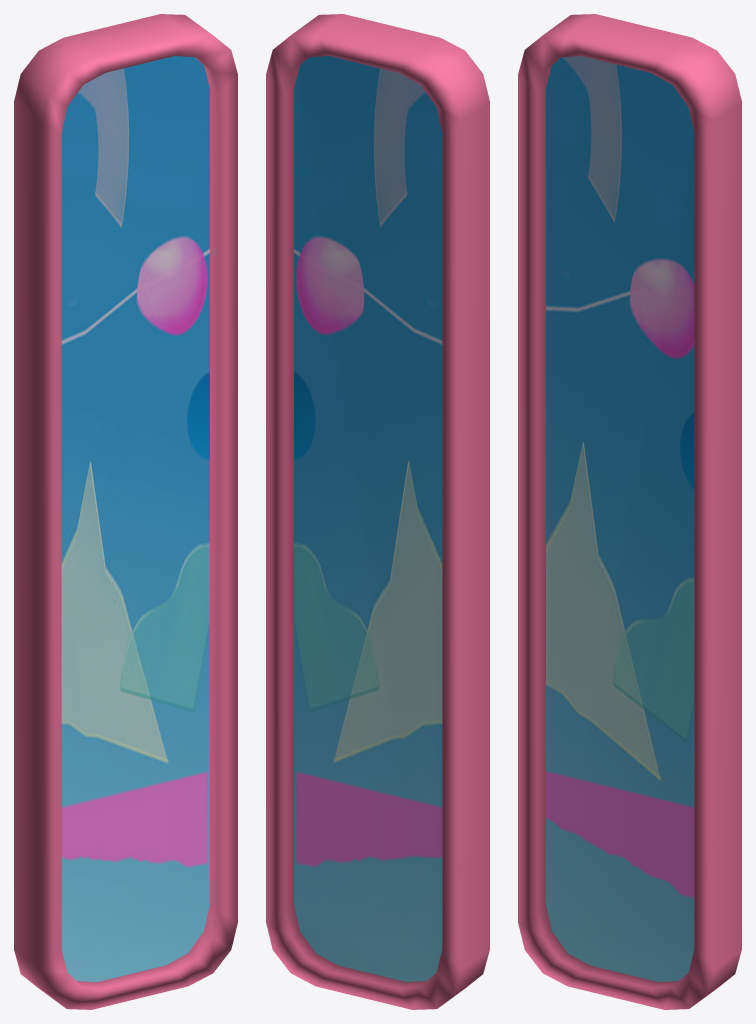
Rendered from PLF0110001.fbx.
3 renders of one model, left to right at view 1: azimuth 30°, elevation 25°; view 2: azimuth 150°, elevation 25°; view 3: azimuth 330°, elevation 25°, orthographic.
Parts seen in each view (by area): view 1: smPLF0110001; view 2: smPLF0110001; view 3: smPLF0110001.
Part boxes in pixels (left/top/right/bottom): smPLF0110001: left=14, top=14, right=237, bottom=1009; smPLF0110001: left=266, top=14, right=489, bottom=1009; smPLF0110001: left=518, top=14, right=741, bottom=1009.
Size of the model in its own units: 94.14 by 437 by 23.27.
Materials: 1 (1 with a texture image).
